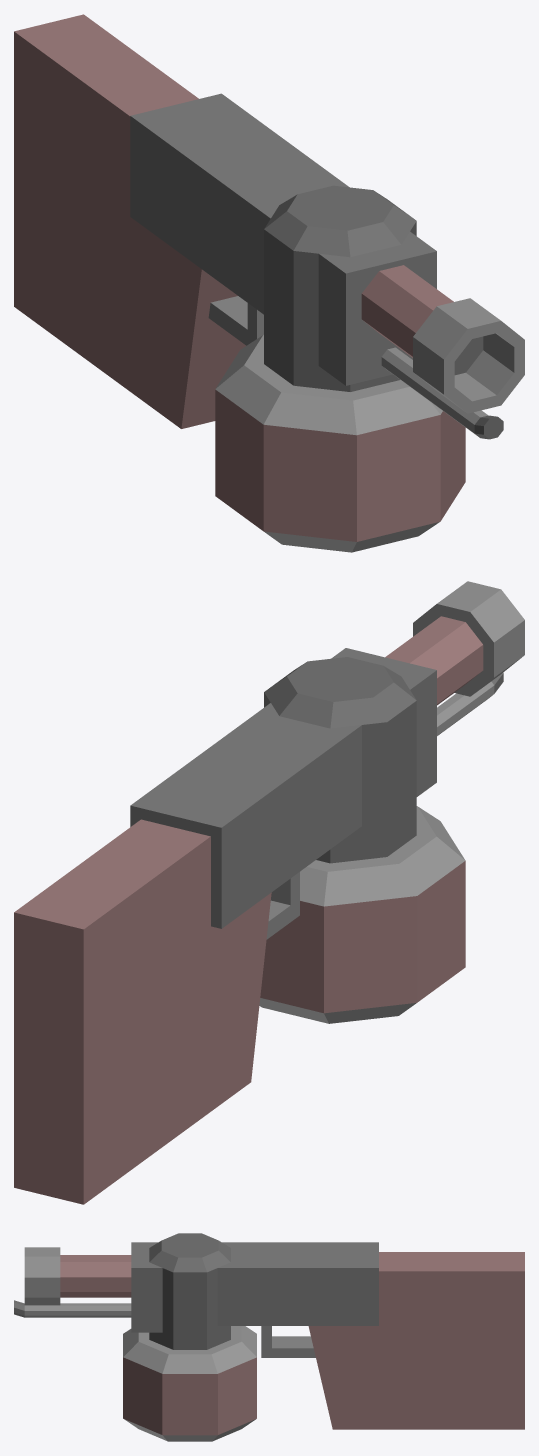
The model's file is flamethrower.glb.
3 renders of one model, top to bottom at view 1: azimuth 30°, elevation 25°; view 2: azimuth 150°, elevation 25°; view 3: azimuth 270°, elevation 25°, orthographic. The views are drawn at different scales.
Visible parts, largest first — view 1: flamethrower; view 2: flamethrower; view 3: flamethrower.
Boxes of the visible parts, x1,y1,x2,y2 form: flamethrower: (14,14,524,552); flamethrower: (14,581,524,1204); flamethrower: (14,1233,524,1441).
Bounding box in the file's own units: 0.0226 × 0.0324 × 0.0861.
